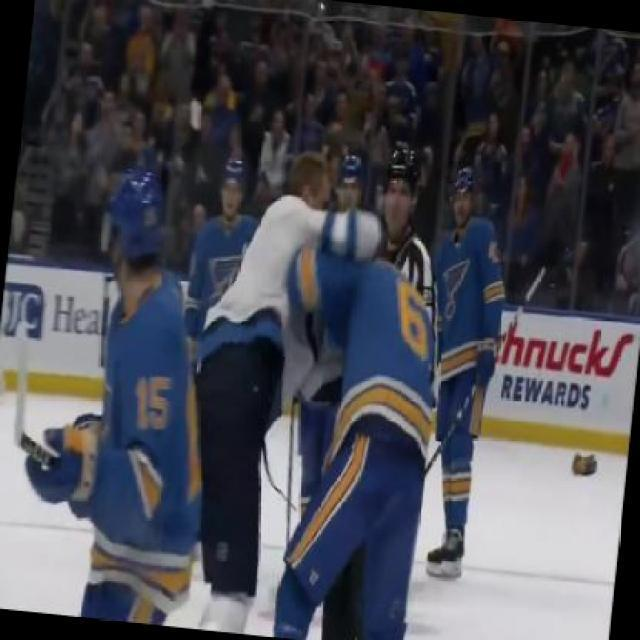fight: (180, 144, 457, 584)
non-fight: (34, 167, 218, 618), (408, 158, 517, 576)
